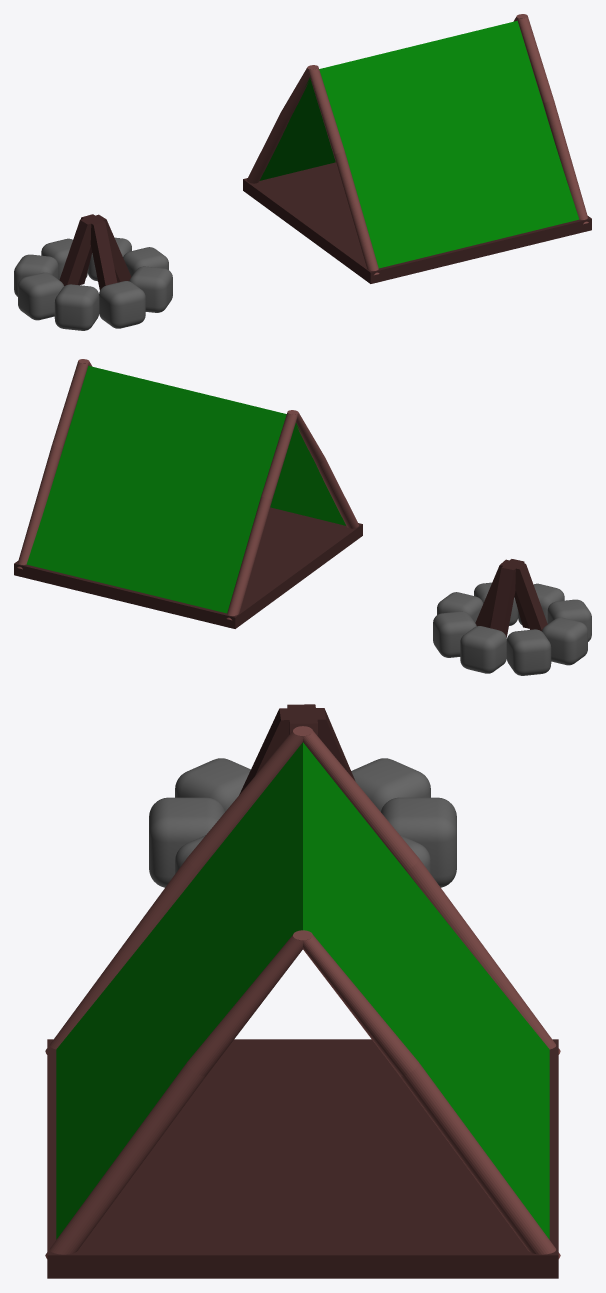
The model's file is Camping.glb.
3 views of the same model, one above another, from view 1: azimuth 30°, elevation 25°; view 2: azimuth 150°, elevation 25°; view 3: azimuth 270°, elevation 25° (orthographic). The views are drawn at different scales.
Visible parts, largest first — view 1: Cube.001, Cube, Cube.002, Cylinder, Cube.003; view 2: Cube.001, Cube, Cube.002, Cylinder, Cube.003; view 3: Cube.001, Cube, Cylinder, Cube.002, Cube.003.
Part boxes in pixels (left/top/right/bottom): Cube.001: left=259, top=20, right=579, bottom=268; Cube: left=243, top=162, right=591, bottom=283; Cube.002: left=14, top=237, right=172, bottom=330; Cylinder: left=247, top=14, right=588, bottom=275; Cube.003: left=59, top=214, right=131, bottom=289; Cube.001: left=26, top=365, right=346, bottom=613; Cube: left=14, top=507, right=362, bottom=628; Cube.002: left=433, top=582, right=591, bottom=675; Cylinder: left=17, top=359, right=358, bottom=620; Cube.003: left=475, top=559, right=547, bottom=637; Cube.001: left=56, top=742, right=549, bottom=1239; Cube: left=47, top=1039, right=558, bottom=1278; Cylinder: left=45, top=726, right=560, bottom=1258; Cube.002: left=149, top=758, right=456, bottom=887; Cube.003: left=239, top=704, right=355, bottom=794.
Bounding box in the file's own units: 9.11 × 3.12 × 4.03.
